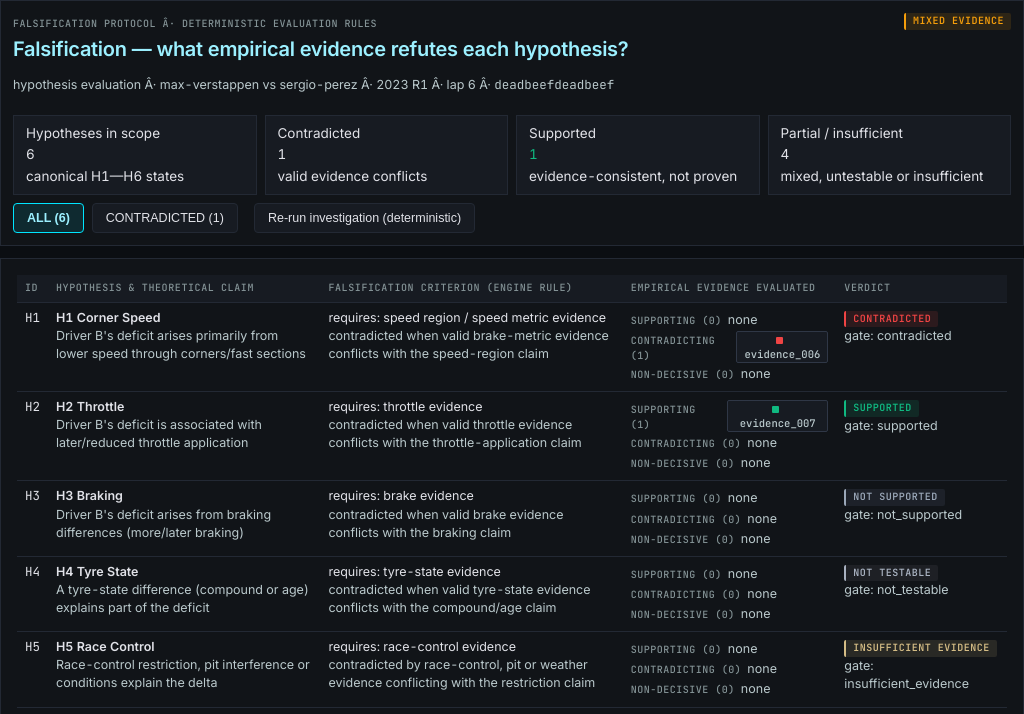
Test: FalsificationMatrixView › expanding a hypothesis row reveals the scientific test structure
The width and height of the screenshot is (1024, 714).
Step 1. Click the text "H1 Corner Speed" → (108, 317), box [56, 310, 160, 325]
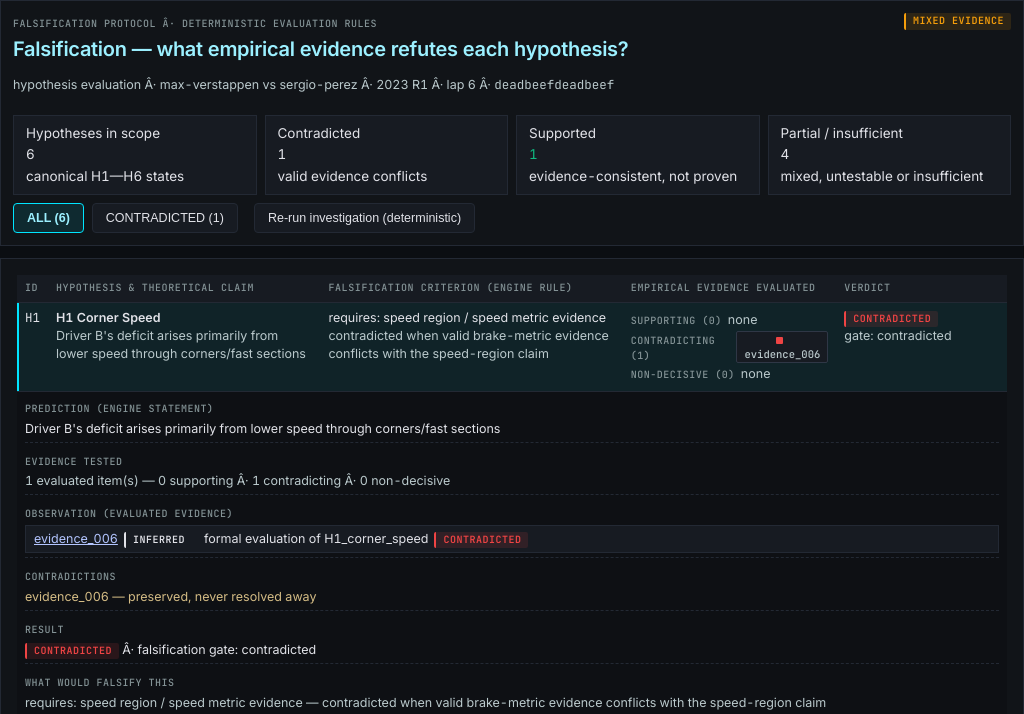
Check: the text "Prediction (engine statement)" is shown, box [25, 402, 214, 415]
Check: the text "What would falsify this" is shown, box [25, 676, 174, 689]
Check: the text "Contradictions" is shown, box [25, 570, 116, 583]
